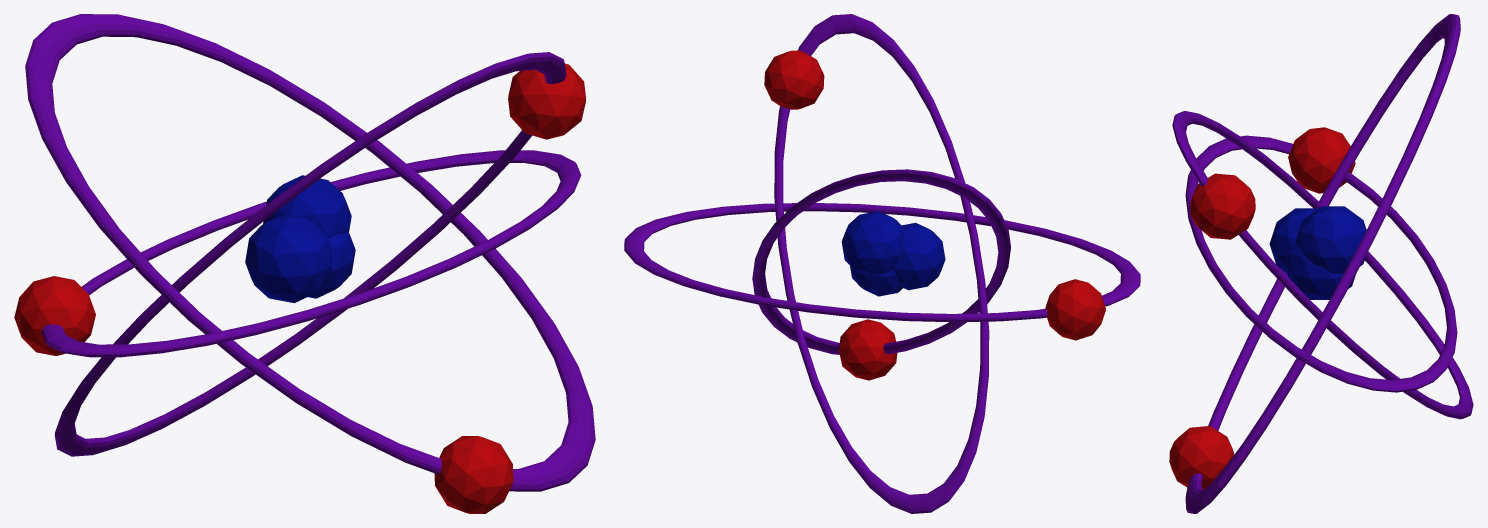
File: atom.fbx
The picture shows the model from 3 angles, left to right: view 1: azimuth 30°, elevation 25°; view 2: azimuth 150°, elevation 25°; view 3: azimuth 270°, elevation 25°; orthographic projection. The views are drawn at different scales.
Visible parts, largest first — view 1: full atom; view 2: full atom; view 3: full atom.
Part boxes in pixels (x1=…): full atom: x1=14, y1=14, x2=595, y2=513; full atom: x1=624, y1=14, x2=1140, y2=513; full atom: x1=1169, y1=14, x2=1473, y2=513.
Bounding box in the file's own units: 503 × 379 × 269.
